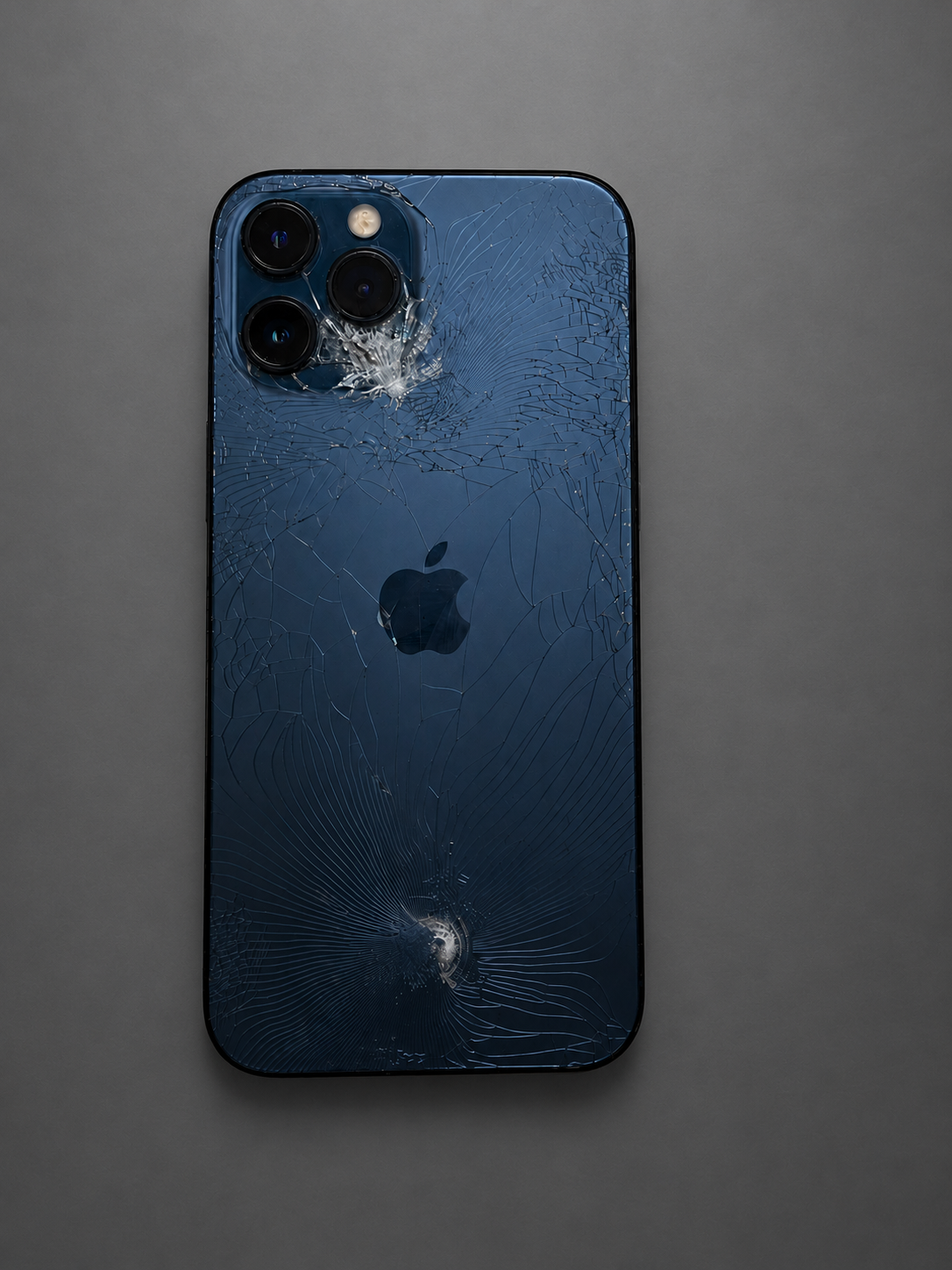iphone_12_pro_max_Crack: (146, 106, 687, 1141)
